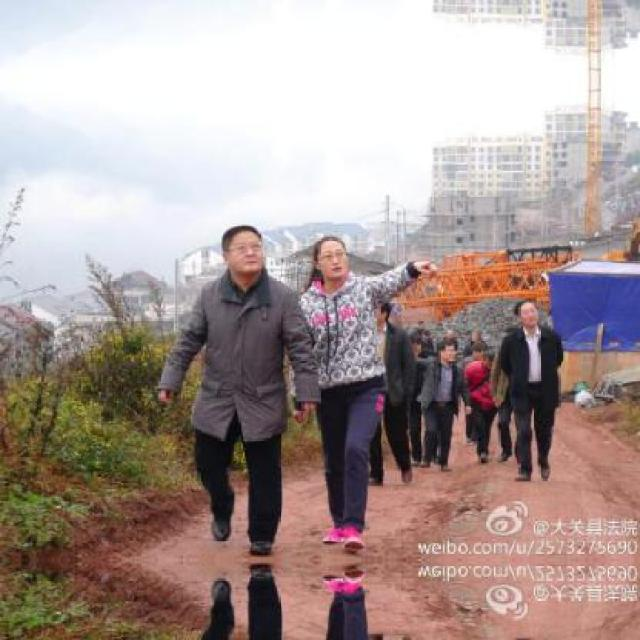nohelmet: (221, 225, 264, 285), (313, 234, 352, 284), (517, 302, 540, 331), (441, 337, 459, 370)
